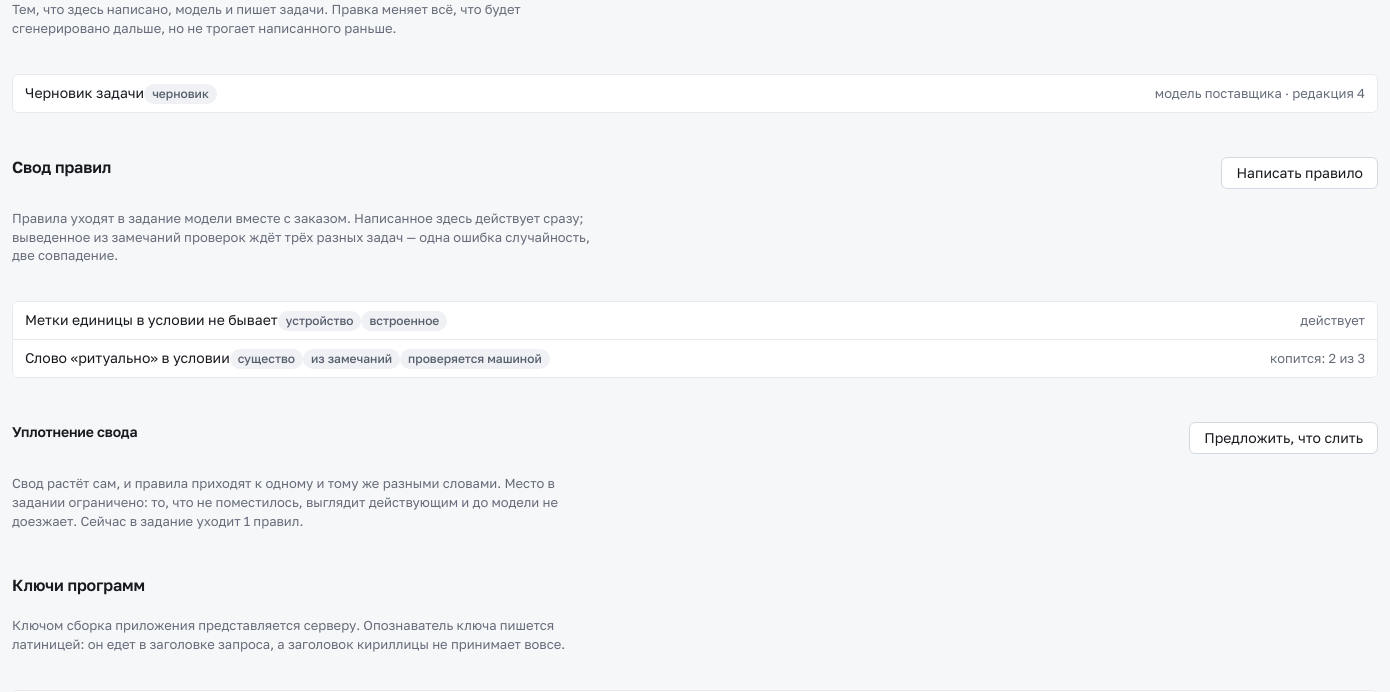
Test: мастерская › правило открывается на правку со своим текстом
The width and height of the screenshot is (1390, 692).
(page scrolled)
What coordinates should you click on to do the following:
click the text "Слово «ритуально» в условии"
I would click on:
 (287, 359)
Its box is [25,348,550,369].
(page scrolled)
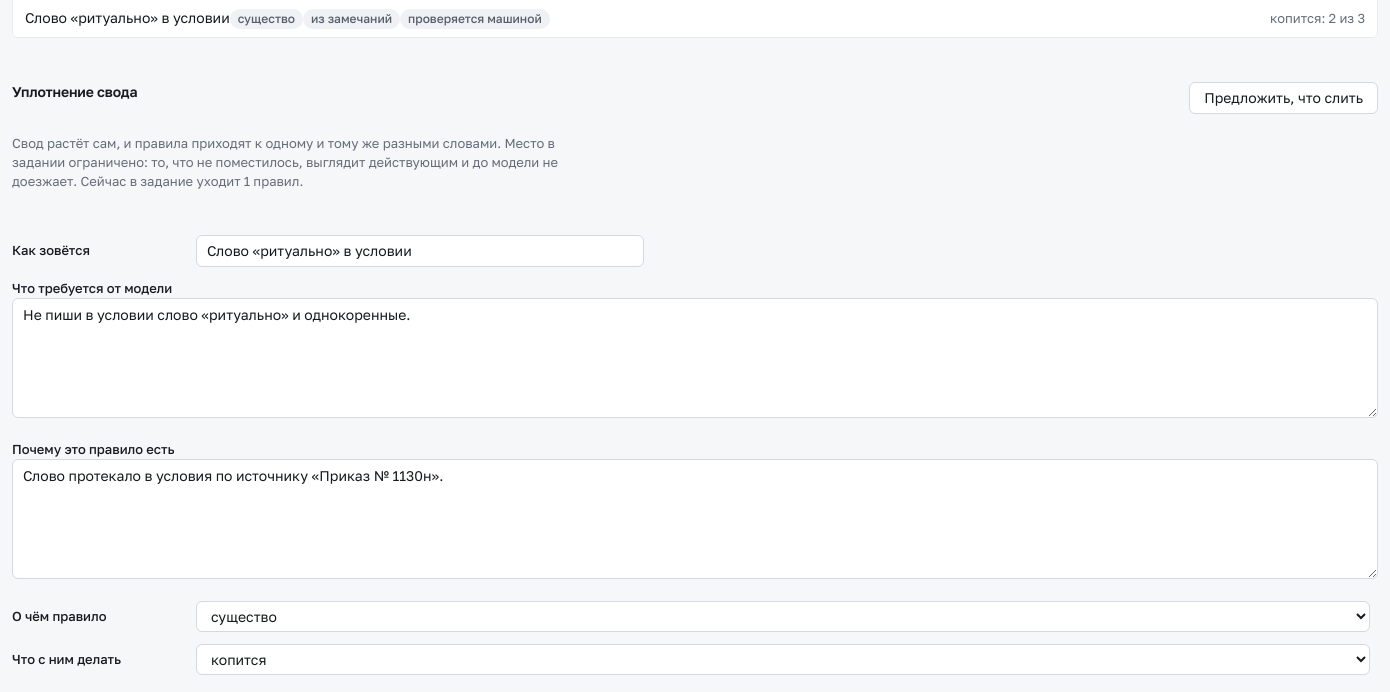
Result: the text box showing "Не пиши в условии слово «ритуально» и однокоренные." is shown at [12,298,1378,418]
